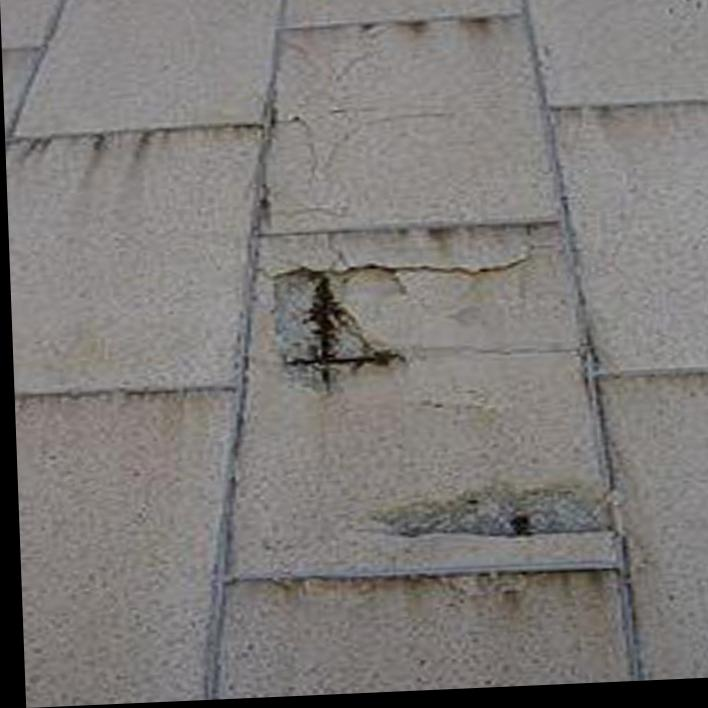crack: (249, 256, 532, 299), (326, 116, 456, 171), (273, 117, 319, 194), (414, 348, 574, 362), (333, 51, 385, 85), (278, 38, 324, 76), (267, 210, 347, 224), (324, 235, 349, 273)
damage: (273, 272, 399, 387), (379, 503, 598, 542)
